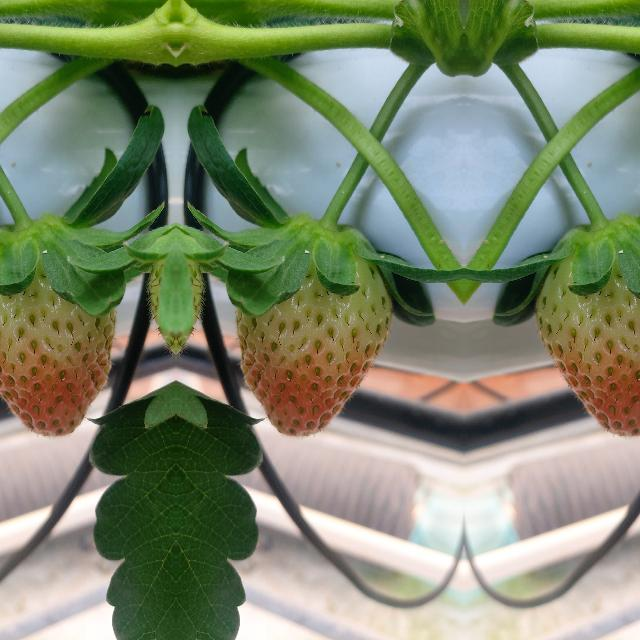Health_50: (232, 249, 392, 439), (0, 249, 117, 439), (534, 249, 640, 439)
